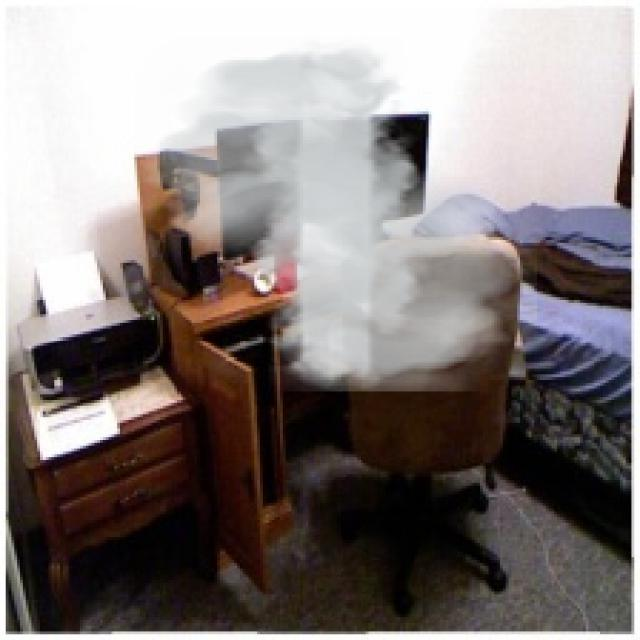smoke: (134, 37, 537, 392)
